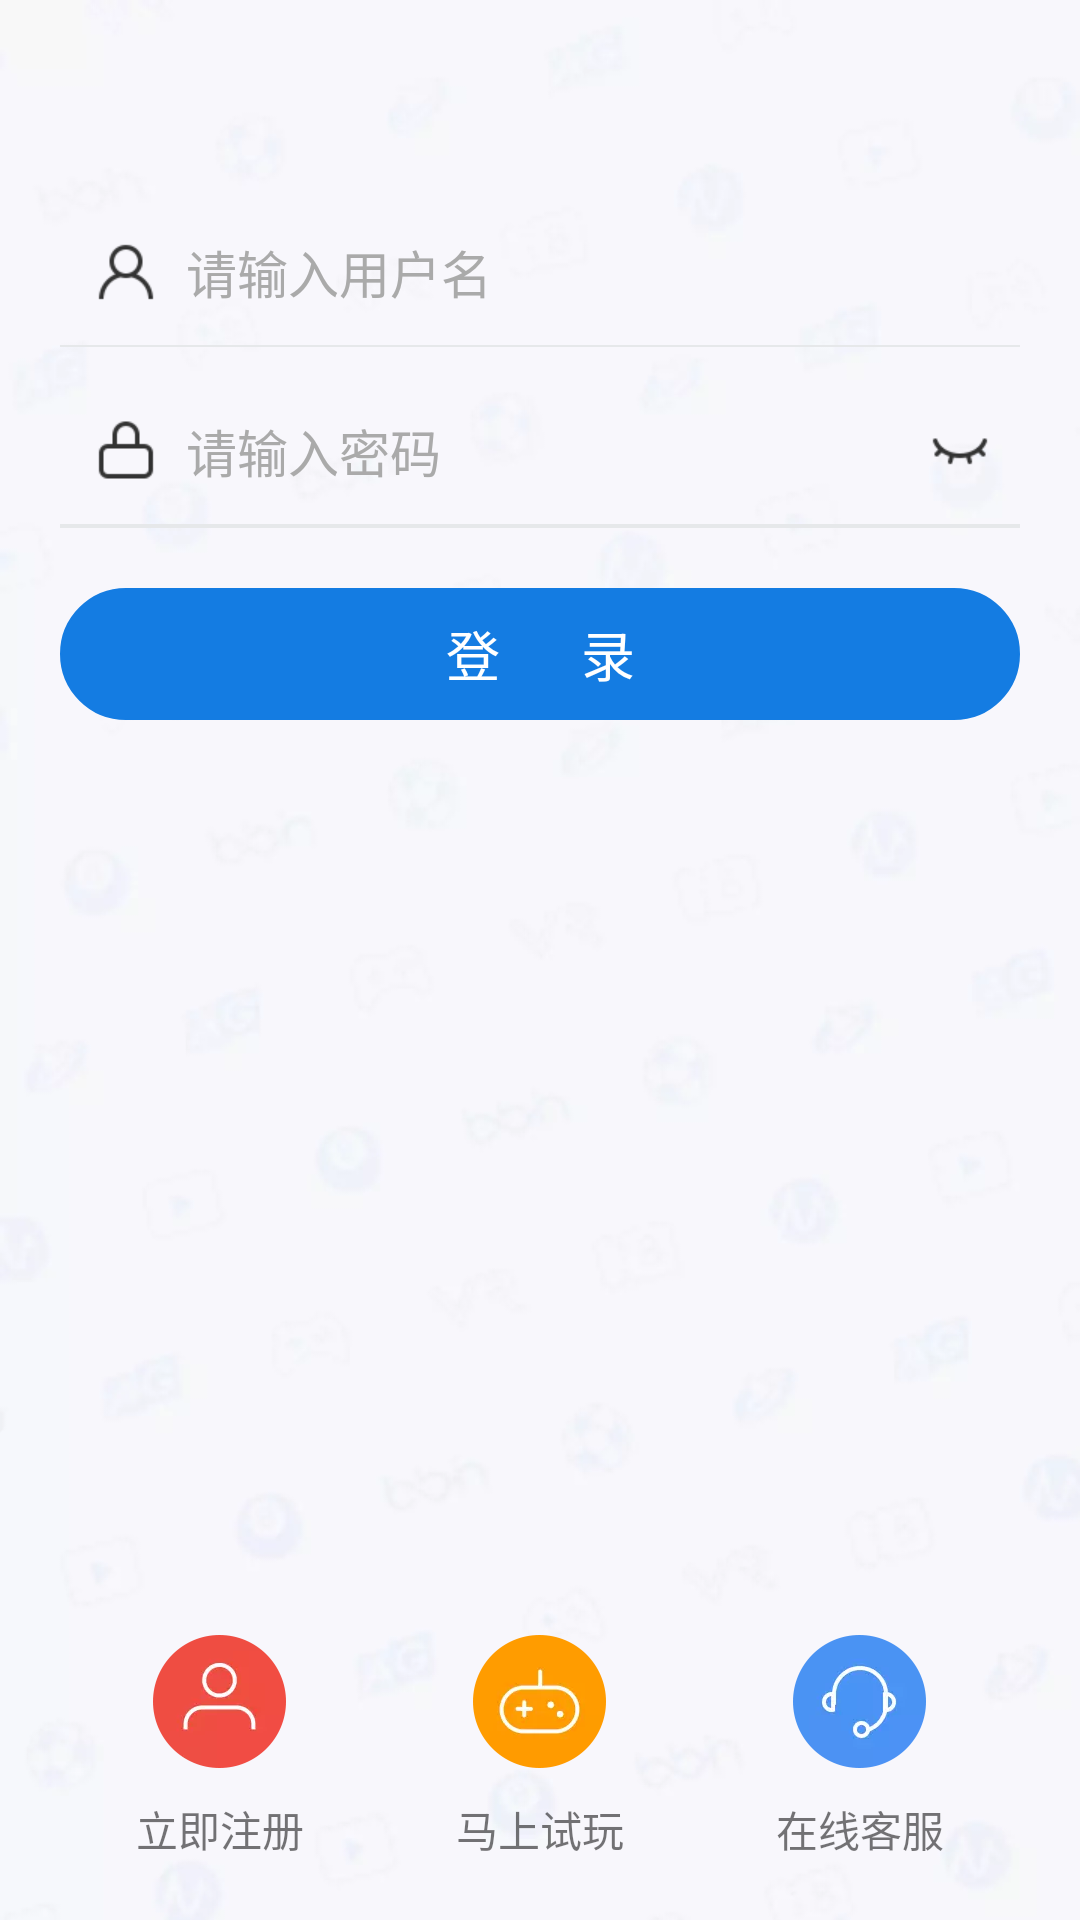

Point at icon controls on the screen. Image size 1080×1920, points as point (x, y).
login pwd ciphertext: point (960, 451)
